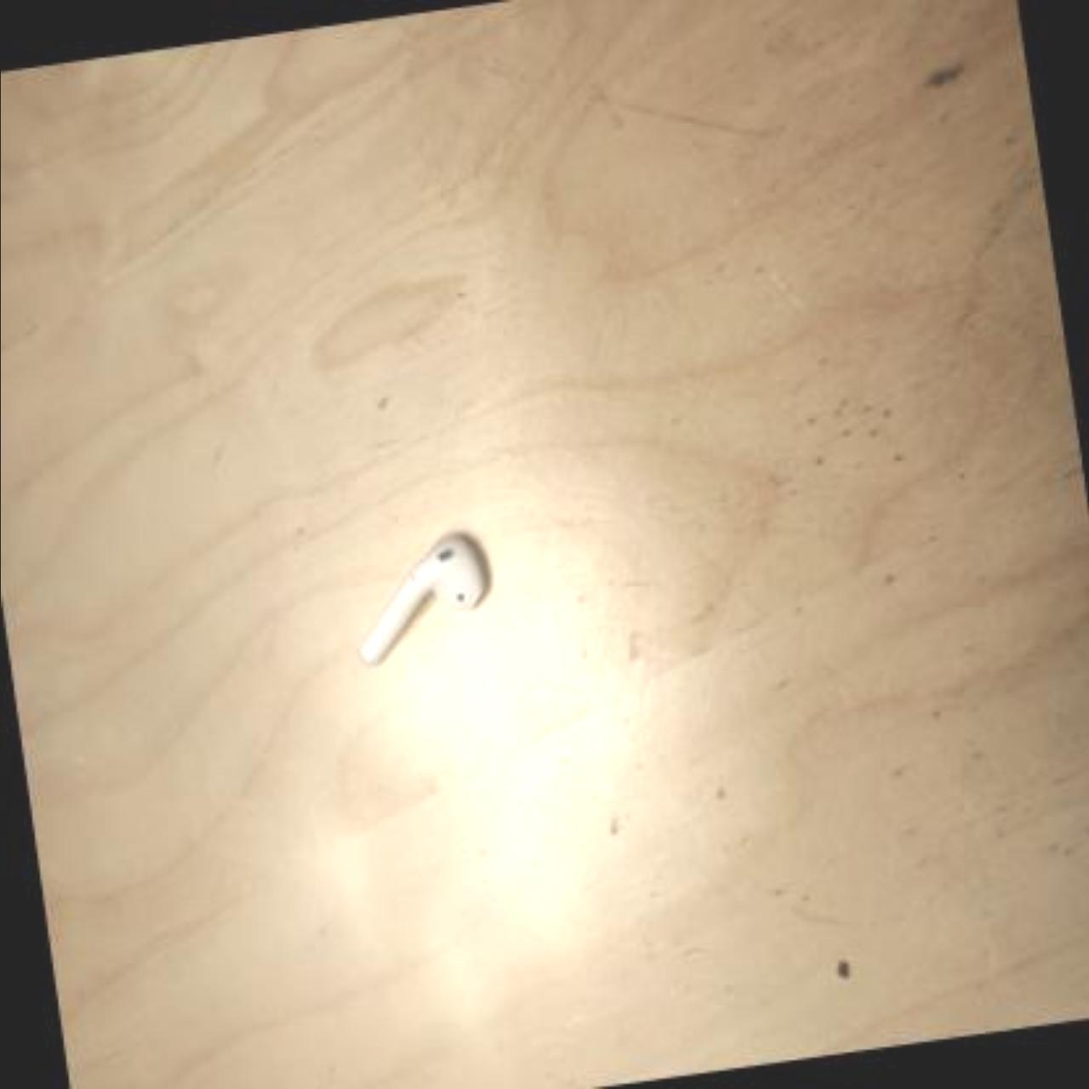Airpods_Units: (348, 525, 497, 674)
